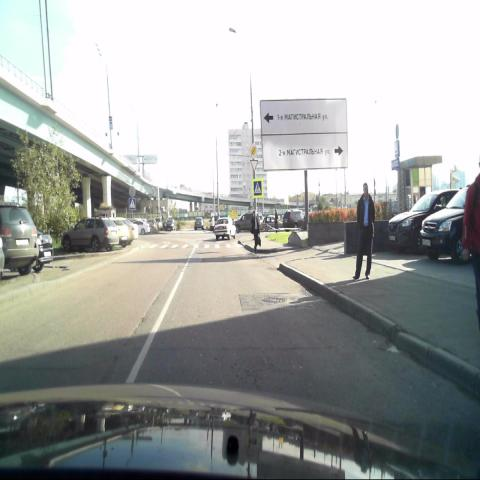2_2: (250, 141, 258, 157)
2_4: (250, 158, 258, 173)
5_19_1: (253, 177, 264, 198), (128, 197, 136, 210)
